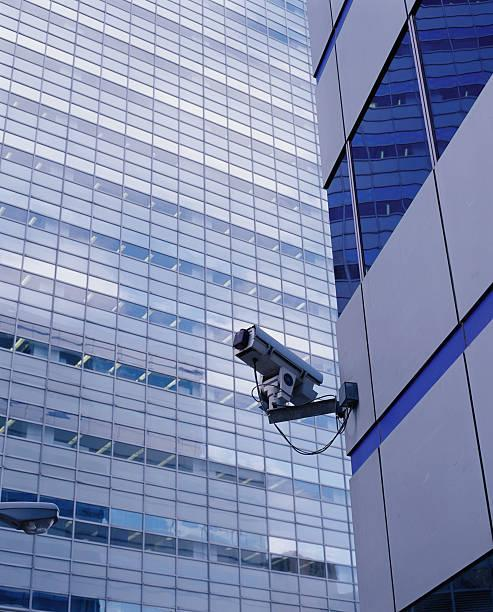camera: (192, 317, 342, 425)
